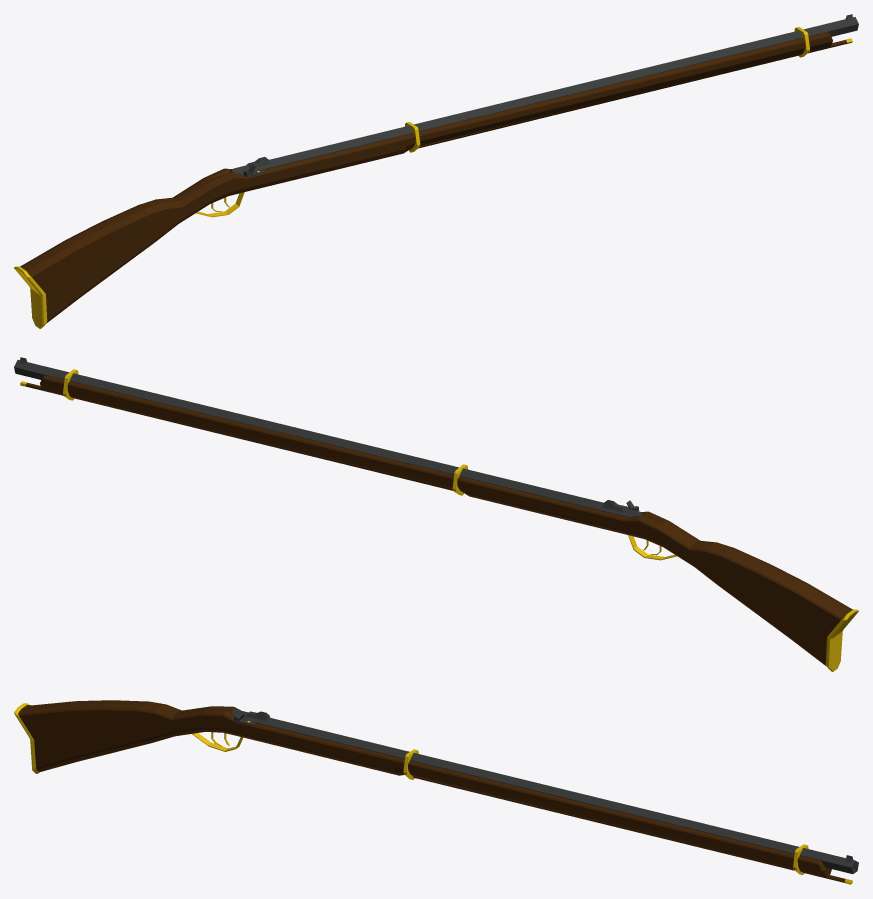
The model's file is MageHunter - MusketteNew.fbx.
3 views of the same model, one above another, from view 1: azimuth 30°, elevation 25°; view 2: azimuth 150°, elevation 25°; view 3: azimuth 330°, elevation 25° (orthographic).
Parts seen in each view (by area): view 1: Cube, Cylinder, Cylinder.002; view 2: Cube, Cylinder, Cylinder.002; view 3: Cube, Cylinder, Cylinder.002.
Boxes of the visible parts, left/top/right/bottom form: Cube: left=14, top=32, right=832, bottom=328; Cylinder: left=230, top=17, right=858, bottom=174; Cylinder.002: left=418, top=38, right=852, bottom=148; Cube: left=40, top=375, right=858, bottom=671; Cylinder: left=14, top=360, right=642, bottom=517; Cylinder.002: left=20, top=381, right=452, bottom=490; Cube: left=14, top=700, right=831, bottom=877; Cylinder: left=230, top=709, right=858, bottom=873; Cylinder.002: left=412, top=776, right=852, bottom=884.
Bounding box in the file's own units: 649 × 85.35 × 18.35.
